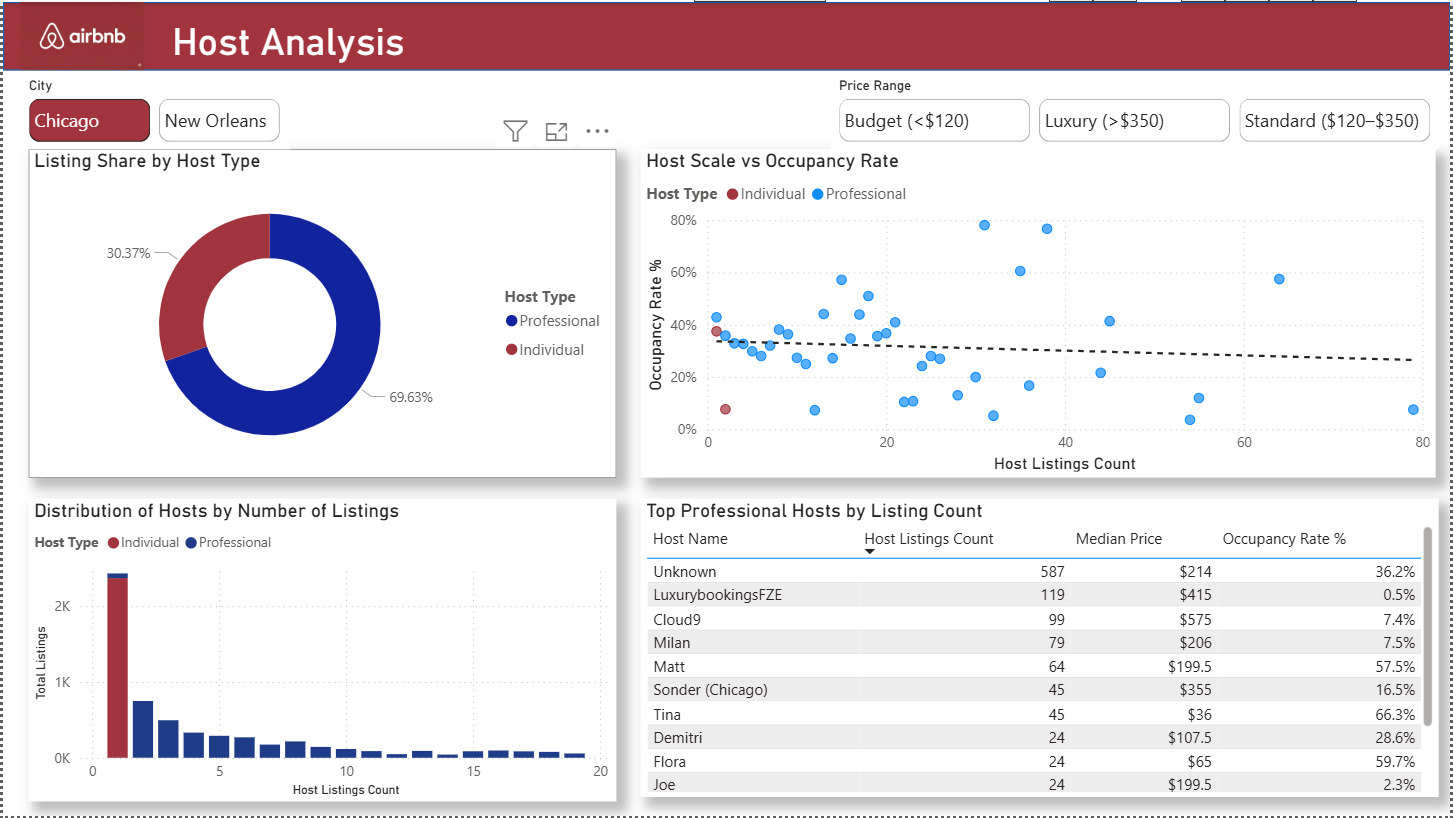

The dashboard page shown, as its layout file describes it:
{"tool":"powerbi","page":{"name":"04 - Host Analysis","canvas":[1280,720],"ordinal":3},"visuals":[{"type":"group","id":"g1","title":"Group 1","box":[0,0,1280.2,59.9],"z":2000},{"type":"shape","box":[0,0,1280.2,60.6],"z":3000,"group":"g1"},{"type":"textbox","box":[144.7,10.2,838.9,49.7],"z":3000},{"type":"donutChart","title":"Listing Share by Host Type","fields":{"Category":["airbnb_clean_dataset.Host Type"],"Y":["Kpi.Total Listings"]},"box":[22.6,130,520.1,290.6],"z":4000},{"type":"columnChart","title":"Distribution of Hosts by Number of Listings","fields":{"Category":["airbnb_clean_dataset.Host Listings Count"],"Y":["Kpi.Total Listings"],"Series":["airbnb_clean_dataset.Host Type"]},"box":[22.6,439.2,520.1,268],"z":5000},{"type":"scatterChart","title":"Host Scale vs Occupancy Rate","fields":{"Y":["Kpi.Occupancy Rate %"],"X":["airbnb_clean_dataset.Host Listings Count"],"Series":["airbnb_clean_dataset.Host Type"]},"box":[563.9,130,703.2,290.6],"z":6000},{"type":"tableEx","title":"Top Professional Hosts by Listing Count","fields":{"Values":["airbnb_clean_dataset.host_name","airbnb_clean_dataset.Host Listings Count","Kpi.Median Price","Kpi.Occupancy Rate %"]},"box":[563.9,439.2,705.9,264],"z":7000},{"type":"advancedSlicerVisual","fields":{"Values":["airbnb_clean_dataset.City"]},"box":[15.9,66.3,237.5,63.7],"z":7001},{"type":"advancedSlicerVisual","fields":{"Values":["airbnb_clean_dataset.Price Range"]},"box":[732.4,66.3,537.4,63.7],"z":7002},{"type":"image","box":[14.6,0.6,111.1,59.9],"z":8000,"group":"g1"}]}

Visuals, with their boxes in screenshot pixels (x1, y1, x2, y2), scaled from the page's 1280x720 canvas onto the 1453x818 screenshot:
"Group 1" group: [0,0,1452,68]
shape: [0,0,1452,69]
textbox: [164,12,1117,68]
"Listing Share by Host Type" donutChart: [26,148,616,478]
"Distribution of Hosts by Number of Listings" columnChart: [26,499,616,803]
"Host Scale vs Occupancy Rate" scatterChart: [640,148,1438,478]
"Top Professional Hosts by Listing Count" tableEx: [640,499,1441,799]
advancedSlicerVisual - airbnb_clean_dataset.City: [18,75,288,148]
advancedSlicerVisual - airbnb_clean_dataset.Price Range: [831,75,1441,148]
image: [17,1,143,69]
